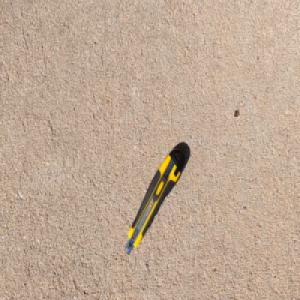Cutter: (123, 145, 186, 257)
